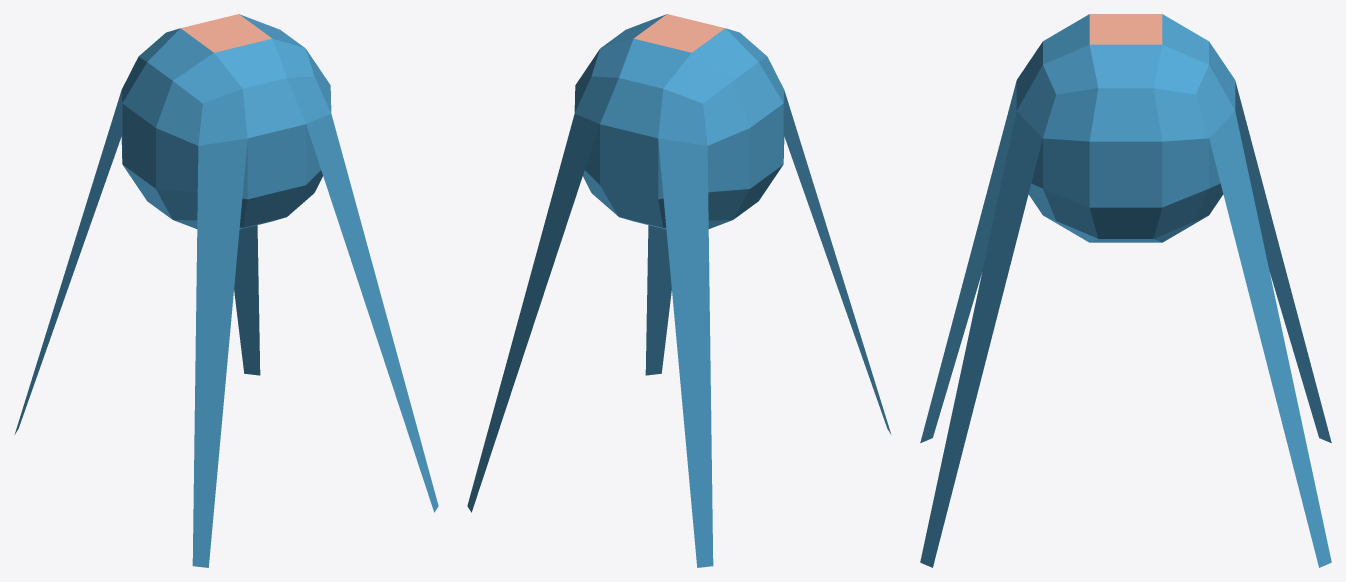
File: satellite-2.glb
The picture shows the model from 3 angles, left to right: view 1: azimuth 30°, elevation 25°; view 2: azimuth 150°, elevation 25°; view 3: azimuth 270°, elevation 25°; orthographic projection. The views are drawn at different scales.
Visible parts, largest first — view 1: Cube; view 2: Cube; view 3: Cube.
Boxes of the visible parts, box(x1,y1,x2,y2) form: Cube: box(14, 14, 438, 567); Cube: box(467, 14, 891, 567); Cube: box(920, 14, 1331, 567).
Size of the model in its own units: 3.42 by 5.82 by 4.58.
1 material, 1 textured.
